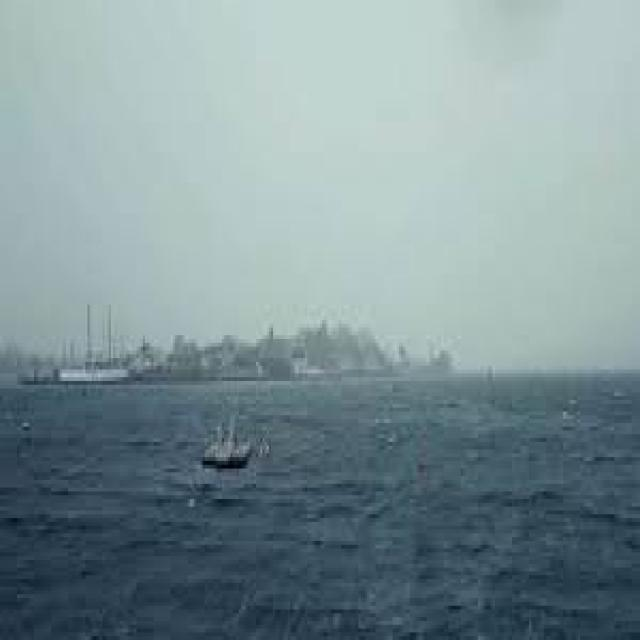fishing boat: (197, 403, 264, 495)
